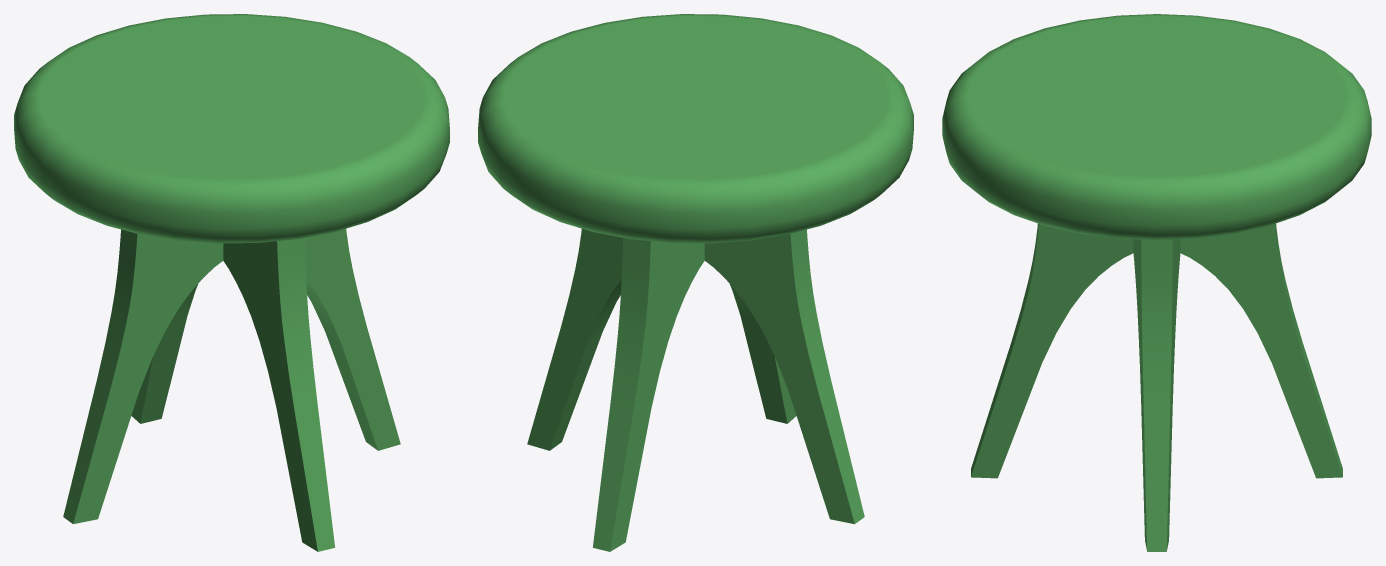
The model's file is SM_VanityDresser_01i.fbx.
3 renders of one model, left to right at view 1: azimuth 30°, elevation 25°; view 2: azimuth 150°, elevation 25°; view 3: azimuth 270°, elevation 25°, orthographic.
Visible parts, largest first — view 1: SM_VanityDresser_01i; view 2: SM_VanityDresser_01i; view 3: SM_VanityDresser_01i.
Boxes of the visible parts, x1,y1,x2,y2 form: SM_VanityDresser_01i: (14,14,449,551); SM_VanityDresser_01i: (478,14,913,551); SM_VanityDresser_01i: (942,14,1371,551).
Bounding box in the file's own units: 1.59 × 1.54 × 1.59.
